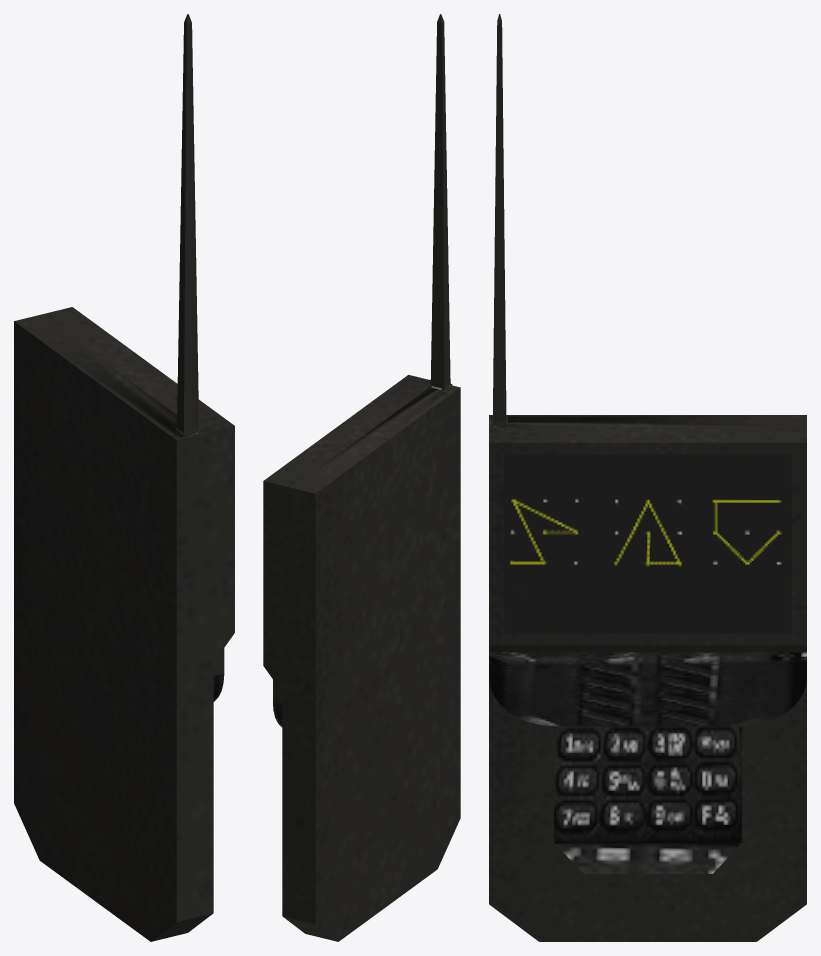
The model's file is puuzzle_radio.fbx.
The picture shows the model from 3 angles, left to right: view 1: azimuth 30°, elevation 25°; view 2: azimuth 150°, elevation 25°; view 3: azimuth 270°, elevation 25°; orthographic projection. The views are drawn at different scales.
Parts seen in each view (by area): view 1: Radio_Body; view 2: Radio_Body; view 3: Radio_Body.
Part boxes in pixels (x1=…): Radio_Body: x1=14, y1=14, x2=234, y2=941; Radio_Body: x1=263, y1=14, x2=460, y2=941; Radio_Body: x1=489, y1=14, x2=806, y2=941.
Size of the model in its own units: 2.2 by 33.79 by 10.61.
